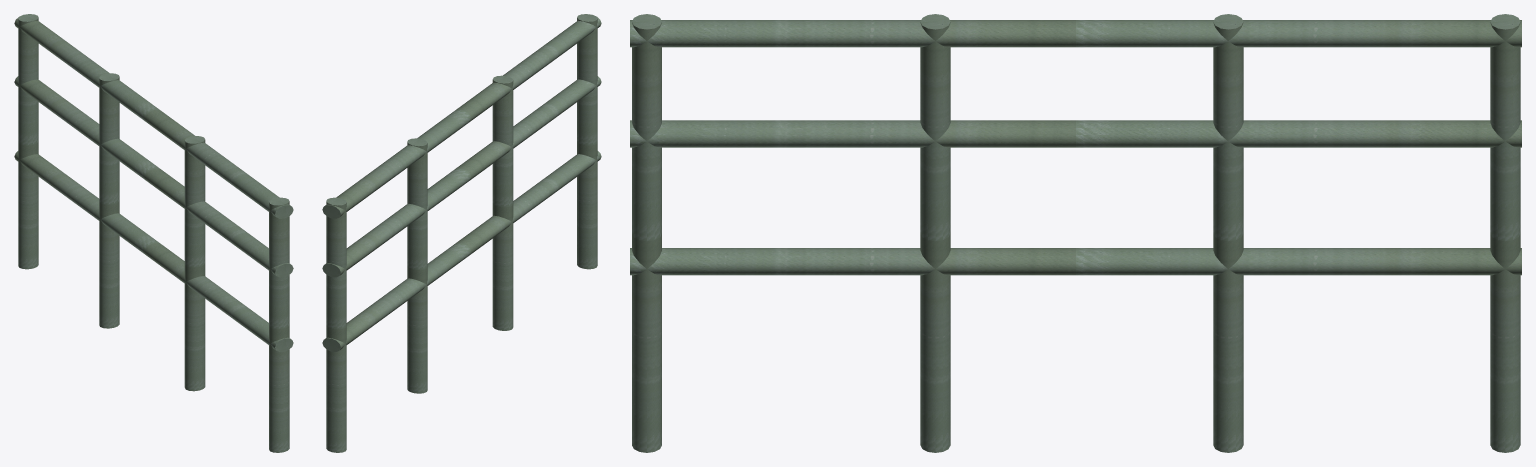
File: fench.FBX
3 renders of one model, left to right at view 1: azimuth 30°, elevation 25°; view 2: azimuth 150°, elevation 25°; view 3: azimuth 270°, elevation 25°, orthographic. The views are drawn at different scales.
Parts seen in each view (by area): view 1: Cylinder008; view 2: Cylinder008; view 3: Cylinder008.
Part boxes in pixels (x1,y1,x2,y2): Cylinder008: [14, 14, 293, 452]; Cylinder008: [322, 14, 601, 452]; Cylinder008: [630, 14, 1521, 452].
Bounding box in the file's own units: 0.6953 × 8.83 × 16.85.
